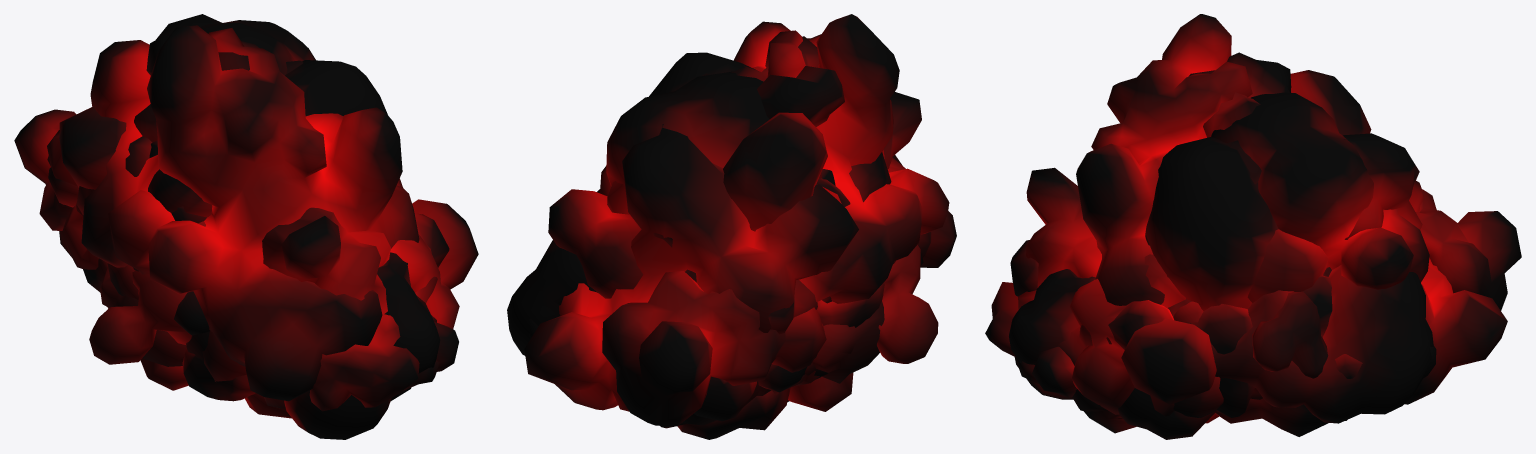
The model's file is Clouds_S.fbx.
3 renders of one model, left to right at view 1: azimuth 30°, elevation 25°; view 2: azimuth 150°, elevation 25°; view 3: azimuth 270°, elevation 25°, orthographic. The views are drawn at different scales.
Visible parts, largest first — view 1: Cloud_05, Cloud_07, Cloud_08, Cloud_09, Cloud_03, Cloud_06, Cloud_04, Cloud_02, Cloud_01; view 2: Cloud_05, Cloud_07, Cloud_09, Cloud_03, Cloud_04, Cloud_08, Cloud_02, Cloud_06; view 3: Cloud_05, Cloud_07, Cloud_09, Cloud_08, Cloud_03, Cloud_04, Cloud_01, Cloud_06, Cloud_02.
Part boxes in pixels (<box>): Cloud_05: <box>14,25,419,401</box>; Cloud_07: <box>47,14,478,411</box>; Cloud_08: <box>48,60,449,390</box>; Cloud_09: <box>134,20,458,439</box>; Cloud_03: <box>89,221,205,364</box>; Cloud_06: <box>83,140,440,373</box>; Cloud_04: <box>140,35,411,418</box>; Cloud_02: <box>100,60,408,394</box>; Cloud_01: <box>133,178,402,335</box>; Cloud_05: <box>602,14,956,426</box>; Cloud_07: <box>524,92,921,428</box>; Cloud_09: <box>548,71,831,375</box>; Cloud_03: <box>507,240,938,363</box>; Cloud_04: <box>678,36,853,439</box>; Cloud_08: <box>529,52,891,421</box>; Cloud_02: <box>682,73,884,425</box>; Cloud_06: <box>758,169,835,401</box>; Cloud_05: <box>1010,14,1521,417</box>; Cloud_07: <box>985,133,1507,416</box>; Cloud_09: <box>1014,92,1429,399</box>; Cloud_08: <box>1017,137,1436,383</box>; Cloud_03: <box>1173,265,1433,423</box>; Cloud_04: <box>1083,52,1346,439</box>; Cloud_01: <box>1173,291,1328,417</box>; Cloud_06: <box>1009,269,1332,364</box>; Cloud_02: <box>1072,140,1261,411</box>.
Size of the model in its own units: 1076 by 1133 by 1521.
